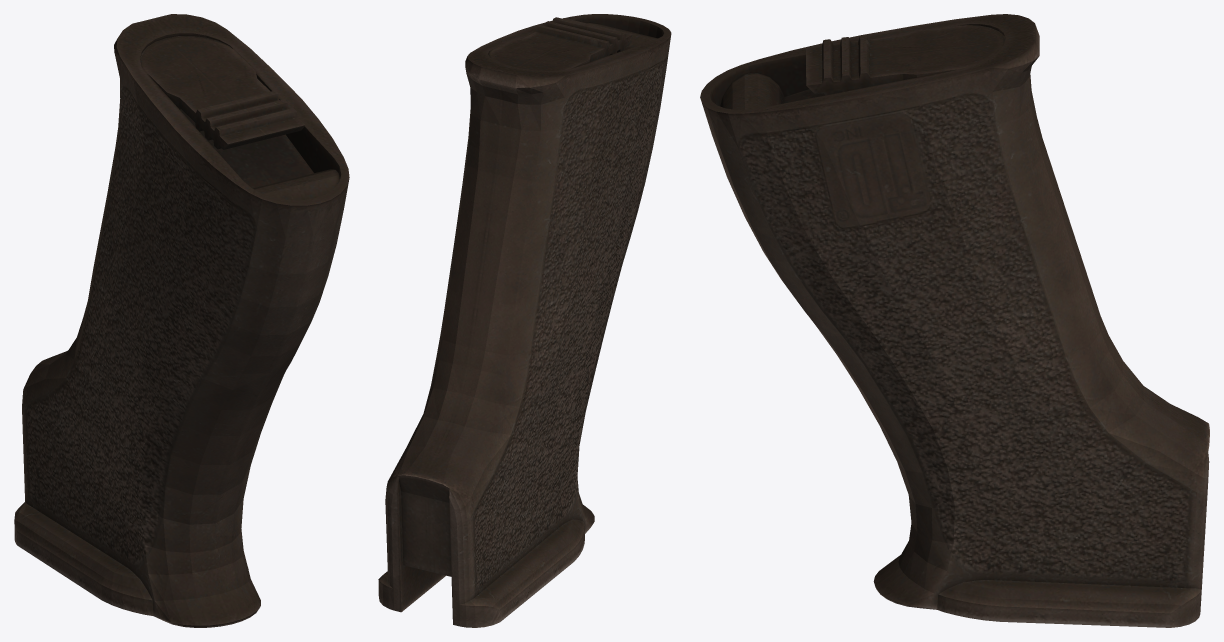
3 views of the same model, side by side, from view 1: azimuth 30°, elevation 25°; view 2: azimuth 150°, elevation 25°; view 3: azimuth 270°, elevation 25° (orthographic). The views are drawn at different scales.
Visible parts, largest first — view 1: TW_628c9ab845c59e5b80768a81_PZ_Import; view 2: TW_628c9ab845c59e5b80768a81_PZ_Import; view 3: TW_628c9ab845c59e5b80768a81_PZ_Import.
Boxes of the visible parts, x1,y1,x2,y2 form: TW_628c9ab845c59e5b80768a81_PZ_Import: (14, 14, 349, 627); TW_628c9ab845c59e5b80768a81_PZ_Import: (378, 14, 671, 627); TW_628c9ab845c59e5b80768a81_PZ_Import: (700, 14, 1209, 627).
Size of the model in its own units: 0.015 by 0.0484 by 0.0595.
Materials: 1 (1 with a texture image).
